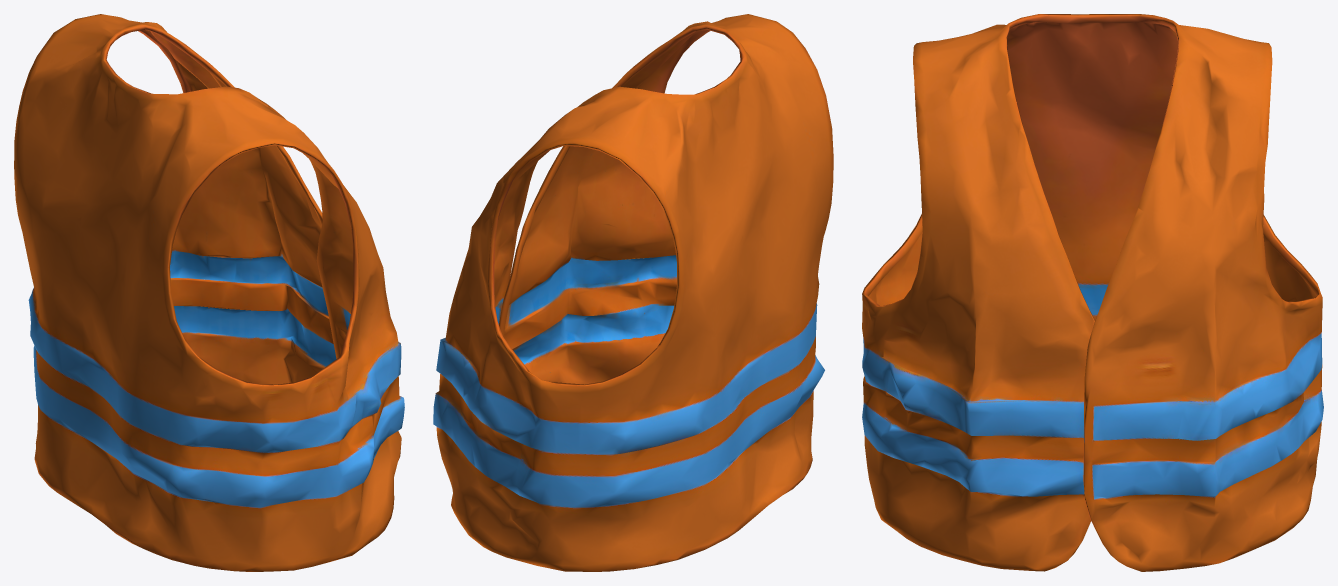
Rendered from hi-vis-vest.glb.
The picture shows the model from 3 angles, left to right: view 1: azimuth 30°, elevation 25°; view 2: azimuth 150°, elevation 25°; view 3: azimuth 270°, elevation 25°; orthographic projection. The views are drawn at different scales.
Parts seen in each view (by area): view 1: tripo_node_320d4521-3648-4378-9f59-003b1df8be8b; view 2: tripo_node_320d4521-3648-4378-9f59-003b1df8be8b; view 3: tripo_node_320d4521-3648-4378-9f59-003b1df8be8b.
Boxes of the visible parts, x1=… form: tripo_node_320d4521-3648-4378-9f59-003b1df8be8b: x1=14, y1=14, x2=404, y2=571; tripo_node_320d4521-3648-4378-9f59-003b1df8be8b: x1=433, y1=14, x2=833, y2=571; tripo_node_320d4521-3648-4378-9f59-003b1df8be8b: x1=862, y1=14, x2=1323, y2=571.
Size of the model in its own units: 0.6505 by 1 by 0.9213.
Materials: 1 (1 with a texture image).
